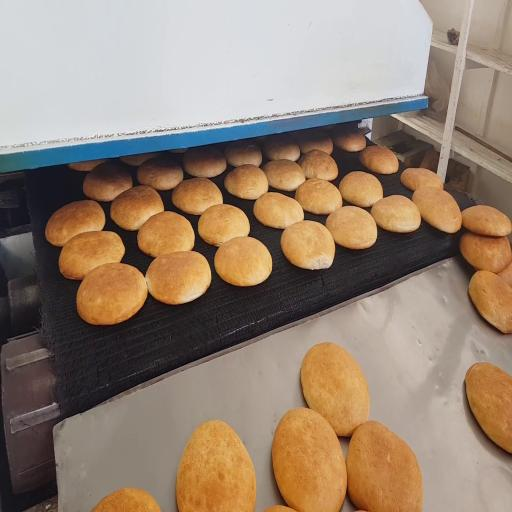bread: (272, 408, 346, 511), (176, 421, 256, 511), (347, 421, 423, 511), (301, 343, 369, 436), (77, 264, 147, 325), (466, 363, 511, 453), (146, 251, 211, 304), (59, 231, 125, 280), (215, 237, 272, 286), (46, 200, 105, 246), (469, 271, 511, 333), (281, 221, 335, 269), (138, 211, 194, 257), (111, 186, 163, 230), (413, 187, 461, 233), (326, 206, 377, 249), (198, 204, 250, 246), (460, 232, 511, 273), (83, 162, 132, 201), (371, 195, 421, 233), (172, 178, 222, 215), (254, 192, 303, 228), (295, 178, 342, 214), (339, 171, 383, 207), (137, 156, 183, 190), (224, 165, 268, 200), (463, 205, 511, 236), (93, 489, 160, 511), (263, 160, 305, 191), (183, 147, 226, 177), (299, 150, 338, 181), (360, 146, 398, 174), (401, 168, 443, 191), (225, 141, 262, 167), (264, 136, 300, 161), (298, 131, 333, 155), (332, 128, 366, 152), (120, 152, 162, 166), (68, 160, 106, 171), (498, 264, 511, 286), (264, 506, 293, 511), (170, 148, 187, 153)
